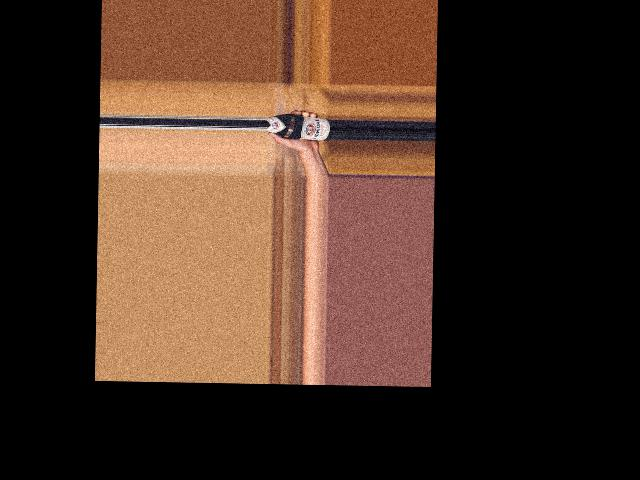beer: (267, 114, 330, 141)
